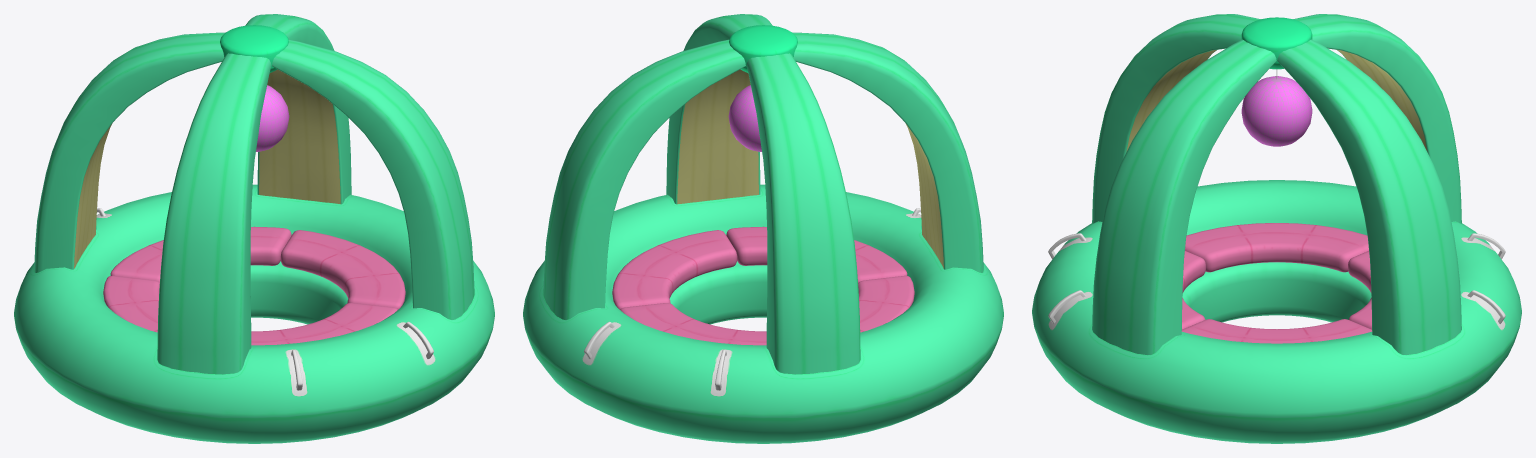
File: PoolFloatIsland01.FBX
The picture shows the model from 3 angles, left to right: view 1: azimuth 30°, elevation 25°; view 2: azimuth 150°, elevation 25°; view 3: azimuth 270°, elevation 25°; orthographic projection.
Visible parts, largest first — view 1: PoolFloatIsland01; view 2: PoolFloatIsland01; view 3: PoolFloatIsland01.
Boxes of the visible parts, box(x1,y1,x2,y2) form: PoolFloatIsland01: box(14, 14, 494, 443); PoolFloatIsland01: box(523, 14, 1003, 443); PoolFloatIsland01: box(1032, 14, 1521, 443).
Size of what is drawn, in the model's own units: 3.13 by 2.33 by 3.13.
